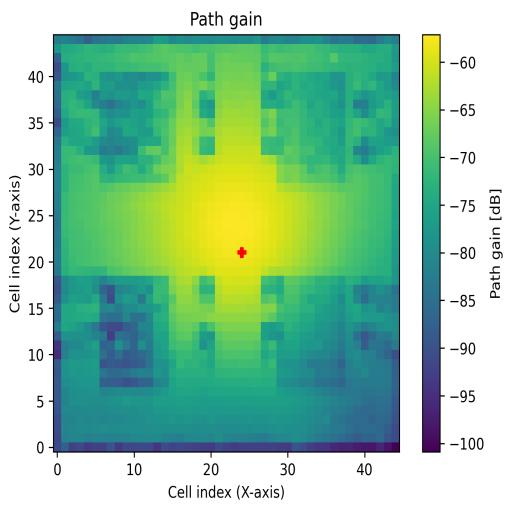Concrete: (277, 72, 347, 183)
Glass: (100, 72, 176, 182)
Metal: (278, 277, 346, 387)
Wood: (99, 276, 169, 386)
